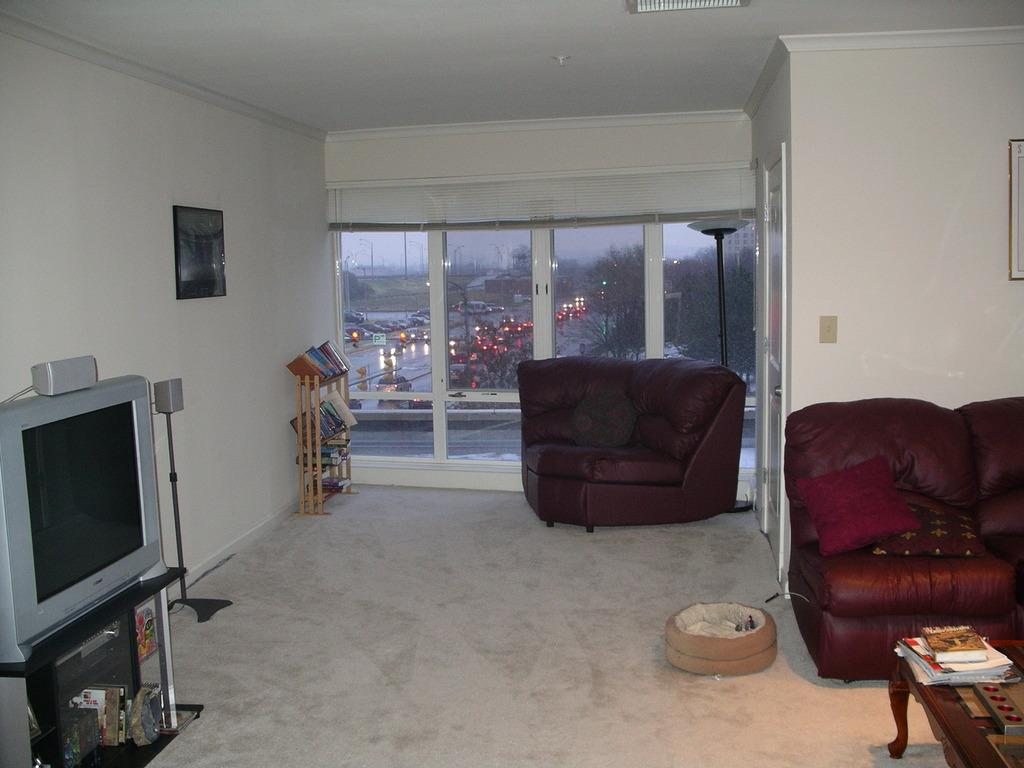Chair: (499, 345, 764, 547)
